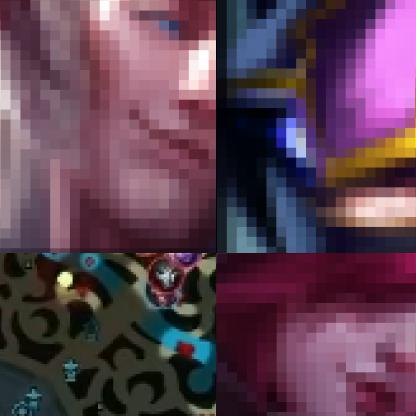Draven: (144, 275, 182, 309)
Jhin: (146, 258, 185, 292)
Kennen: (216, 0, 415, 252)
Rakan: (0, 0, 215, 252)
Soraka: (165, 253, 205, 268)
Xayah: (216, 253, 415, 415)
